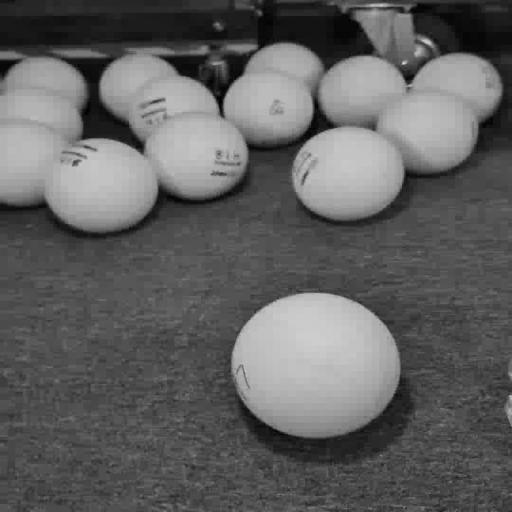fuel: (231, 293, 401, 439), (45, 138, 158, 233), (292, 126, 405, 221), (144, 113, 248, 201), (377, 91, 479, 174), (223, 71, 314, 147), (318, 56, 407, 128), (412, 53, 503, 122), (128, 75, 220, 142), (0, 120, 67, 206), (100, 54, 178, 122), (4, 56, 88, 112), (245, 42, 324, 98), (0, 89, 82, 141)
